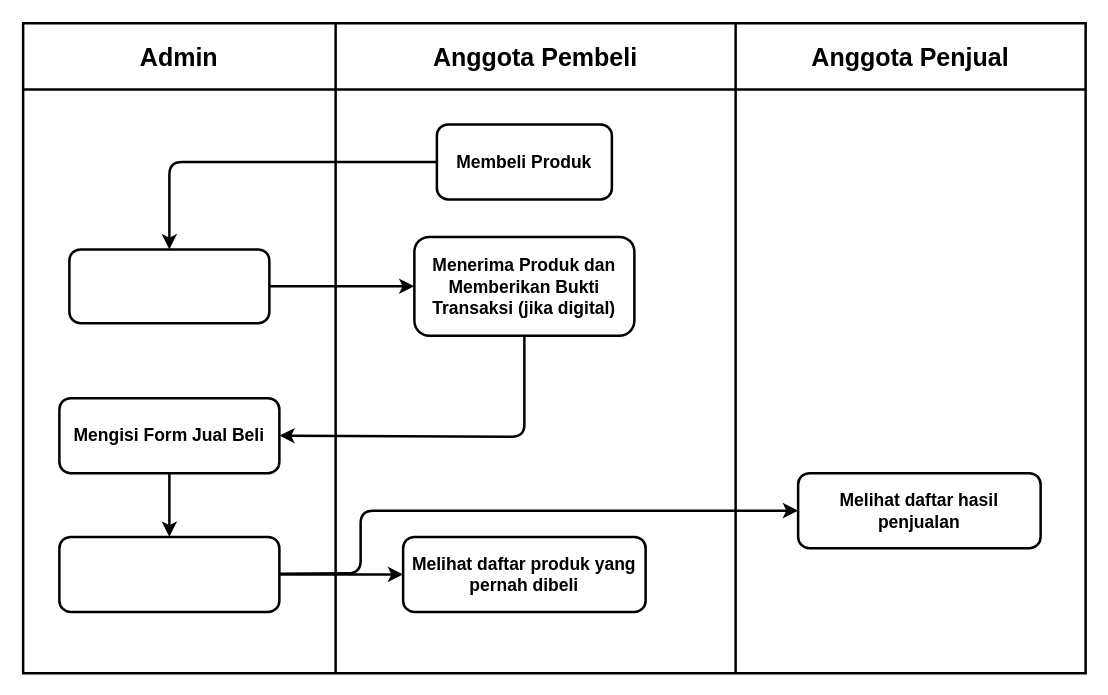
This 1108x695 diagram has some shape labels left out. Here are the shapes that lost their labels. From the top down, the centre of each, then its label:
the point at 169,286: Menyerahkan Produk
the point at 169,573: Submit
